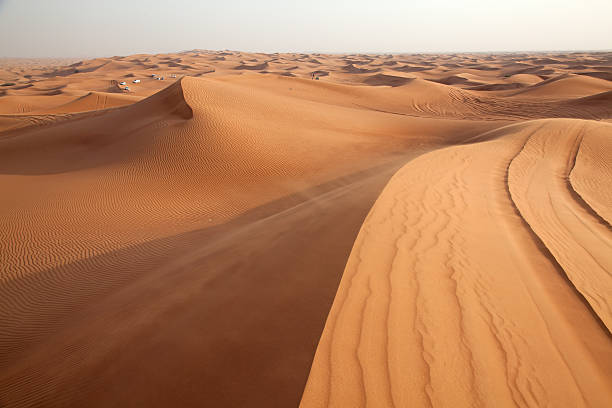vehicle_track: (492, 123, 608, 382), (553, 119, 611, 239)
